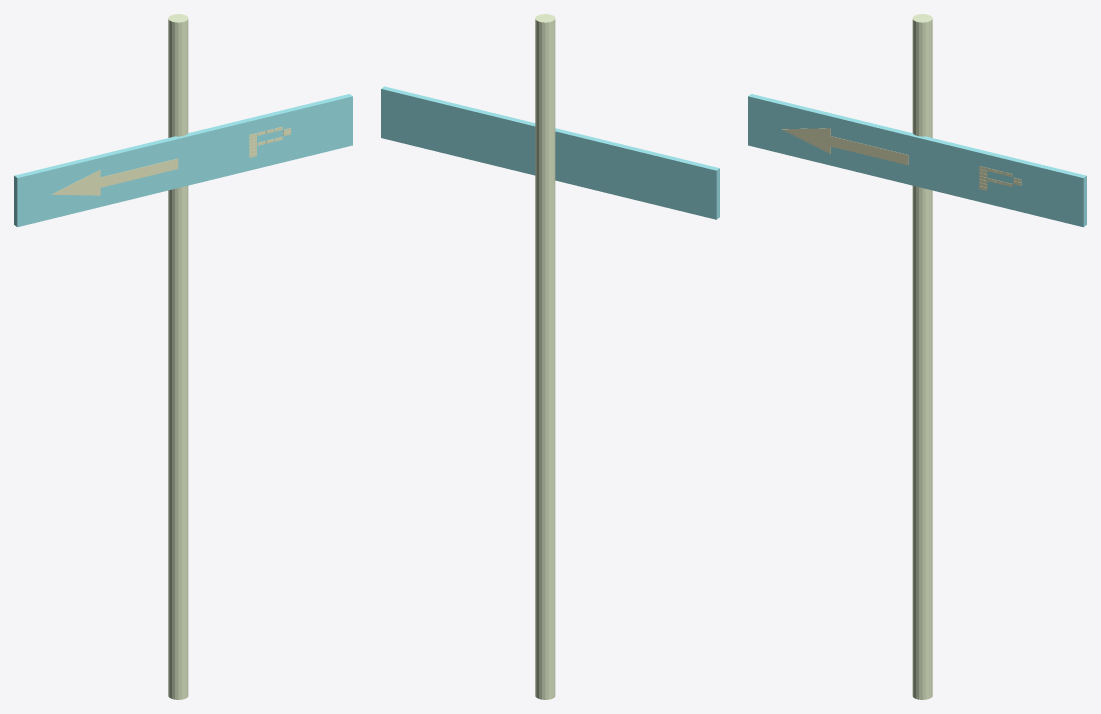
The model's file is sign_parking_arrow_left.glb.
3 views of the same model, side by side, from view 1: azimuth 30°, elevation 25°; view 2: azimuth 150°, elevation 25°; view 3: azimuth 330°, elevation 25° (orthographic).
Visible parts, largest first — view 1: plate_base_00, pole, layer_1_15, layer_1_16; view 2: plate_base_00, pole; view 3: plate_base_00, pole, layer_1_15, layer_1_16.
Part boxes in pixels (x1=…): plate_base_00: x1=14, y1=94, x2=352, y2=227; pole: x1=168, y1=14, x2=188, y2=699; layer_1_15: x1=100, y1=158, x2=178, y2=187; layer_1_16: x1=51, y1=170, x2=100, y2=195; plate_base_00: x1=381, y1=86, x2=719, y2=219; pole: x1=535, y1=14, x2=555, y2=699; plate_base_00: x1=748, y1=94, x2=1086, y2=227; pole: x1=912, y1=14, x2=932, y2=699; layer_1_15: x1=830, y1=136, x2=908, y2=165; layer_1_16: x1=781, y1=128, x2=830, y2=153.
Size of the model in its own units: 1.14 by 2.2 by 0.071.
